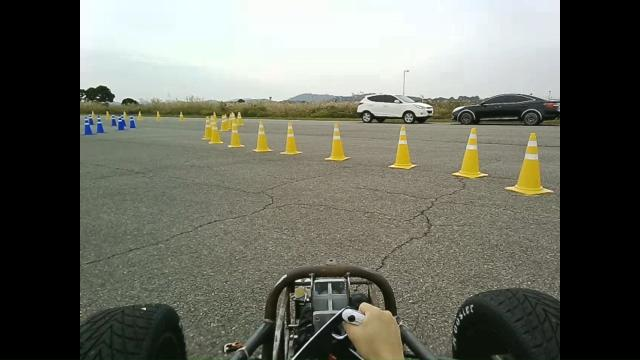yellow cone: (504, 131, 554, 195), (451, 127, 489, 179), (388, 124, 417, 170), (324, 122, 350, 161), (279, 120, 303, 155), (225, 118, 249, 152), (252, 120, 273, 152)
